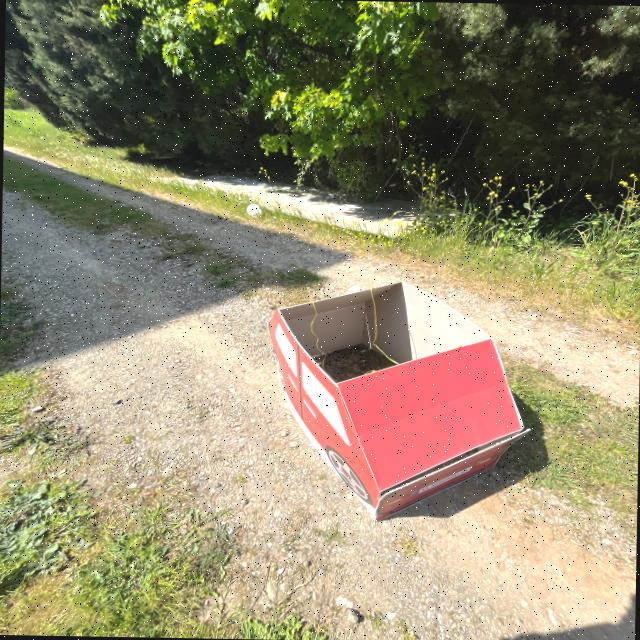red_car: (226, 267, 554, 531)
